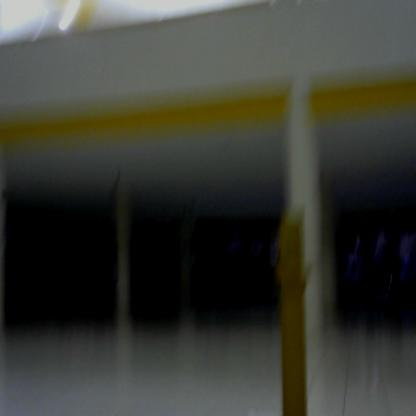pole: (261, 201, 322, 416)
